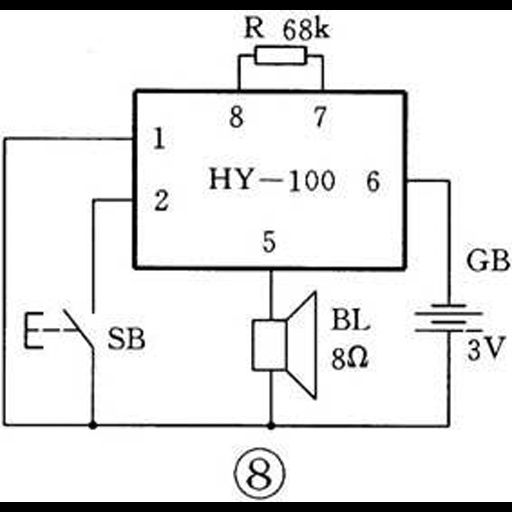battery: (403, 295, 487, 336)
firstresistance: (251, 41, 310, 68)
loudspeaker: (239, 288, 324, 402)
